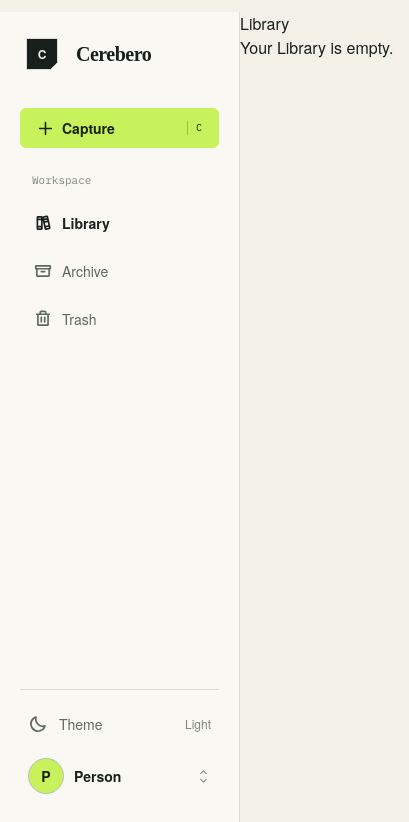
Test: authenticated application shell › collapses the desktop sidebar to labeled icon controls and remembers it
Click the button named "Collapse sidebar" at (42, 54), box [20,32,64,76]
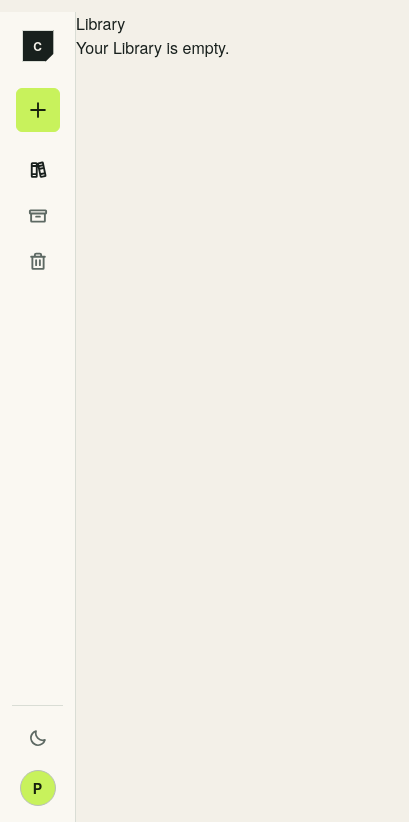
Now the button named "Expand sidebar" is shown, box [16,24,60,68]
Now the text "Workspace" is gone
Now the button named "Capture" is shown, box [16,88,60,132]
